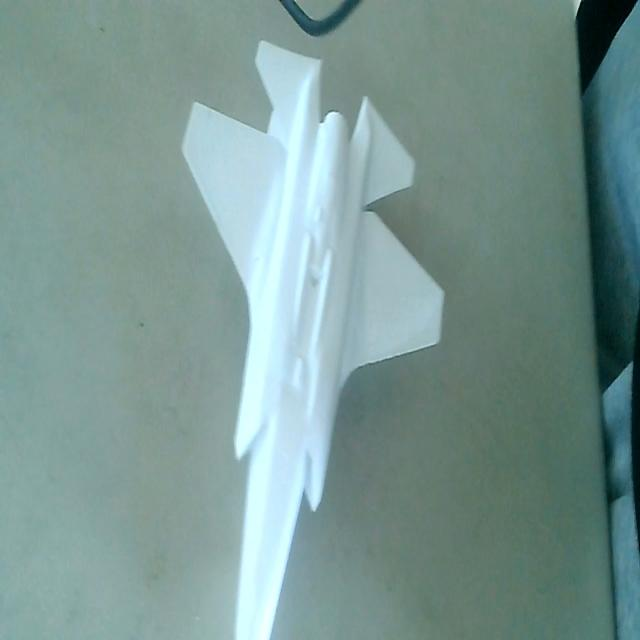Jet: (171, 35, 448, 640)
